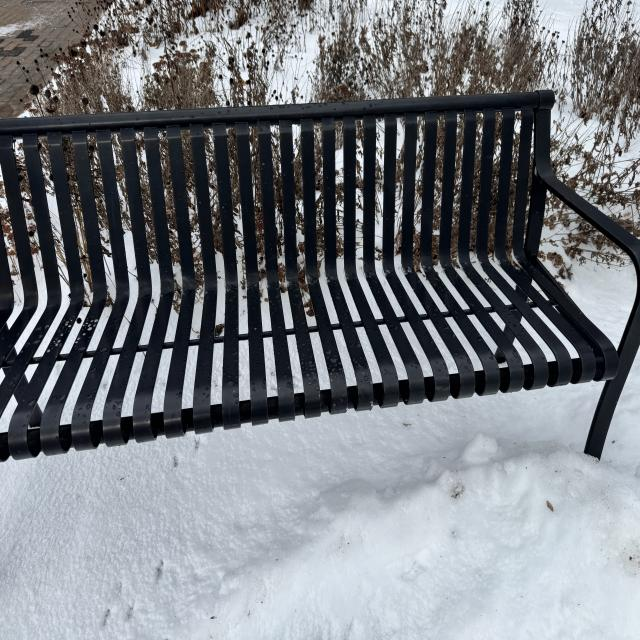Bench: (3, 86, 640, 487)
